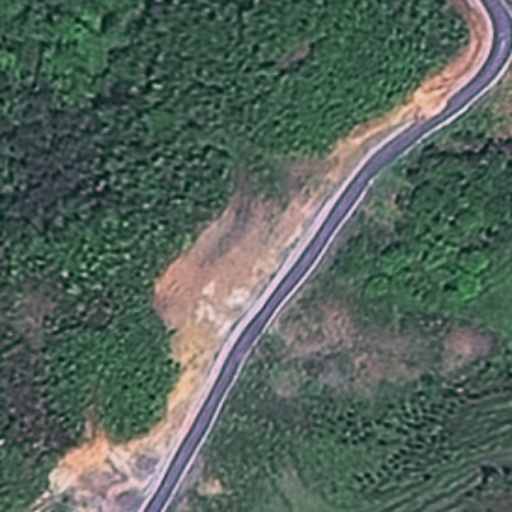landslide: (151, 215, 266, 321)
